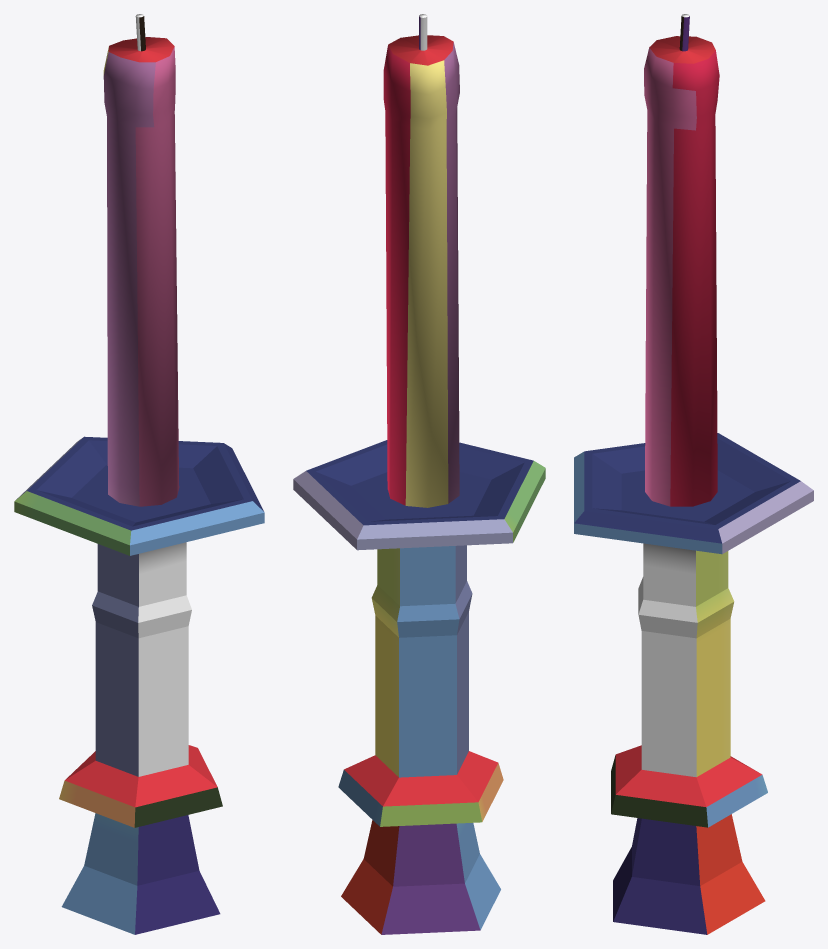
File: candle.fbx
The picture shows the model from 3 angles, left to right: view 1: azimuth 30°, elevation 25°; view 2: azimuth 150°, elevation 25°; view 3: azimuth 270°, elevation 25°; orthographic projection.
Parts seen in each view (by area): view 1: candle; view 2: candle; view 3: candle.
Boxes of the visible parts, x1=… form: candle: x1=14, y1=14, x2=264, y2=934; candle: x1=293, y1=14, x2=545, y2=934; candle: x1=574, y1=14, x2=813, y2=934.
Size of the model in its own units: 0.1351 by 0.5228 by 0.1285.
